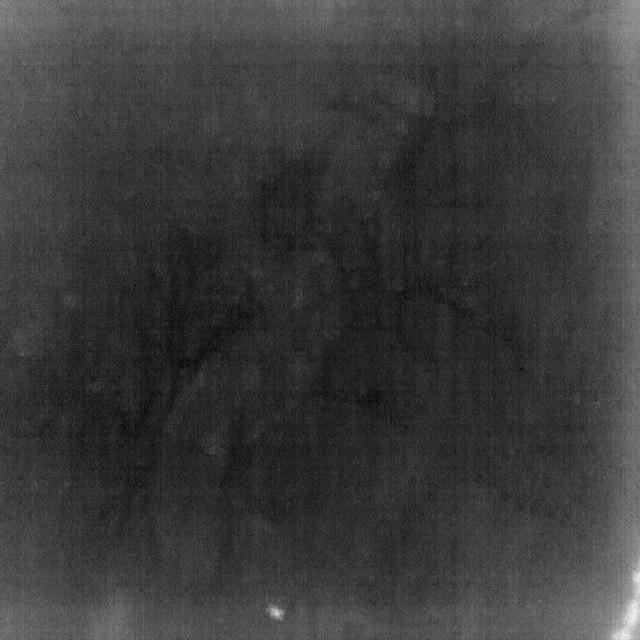deer: (266, 604, 286, 620)
